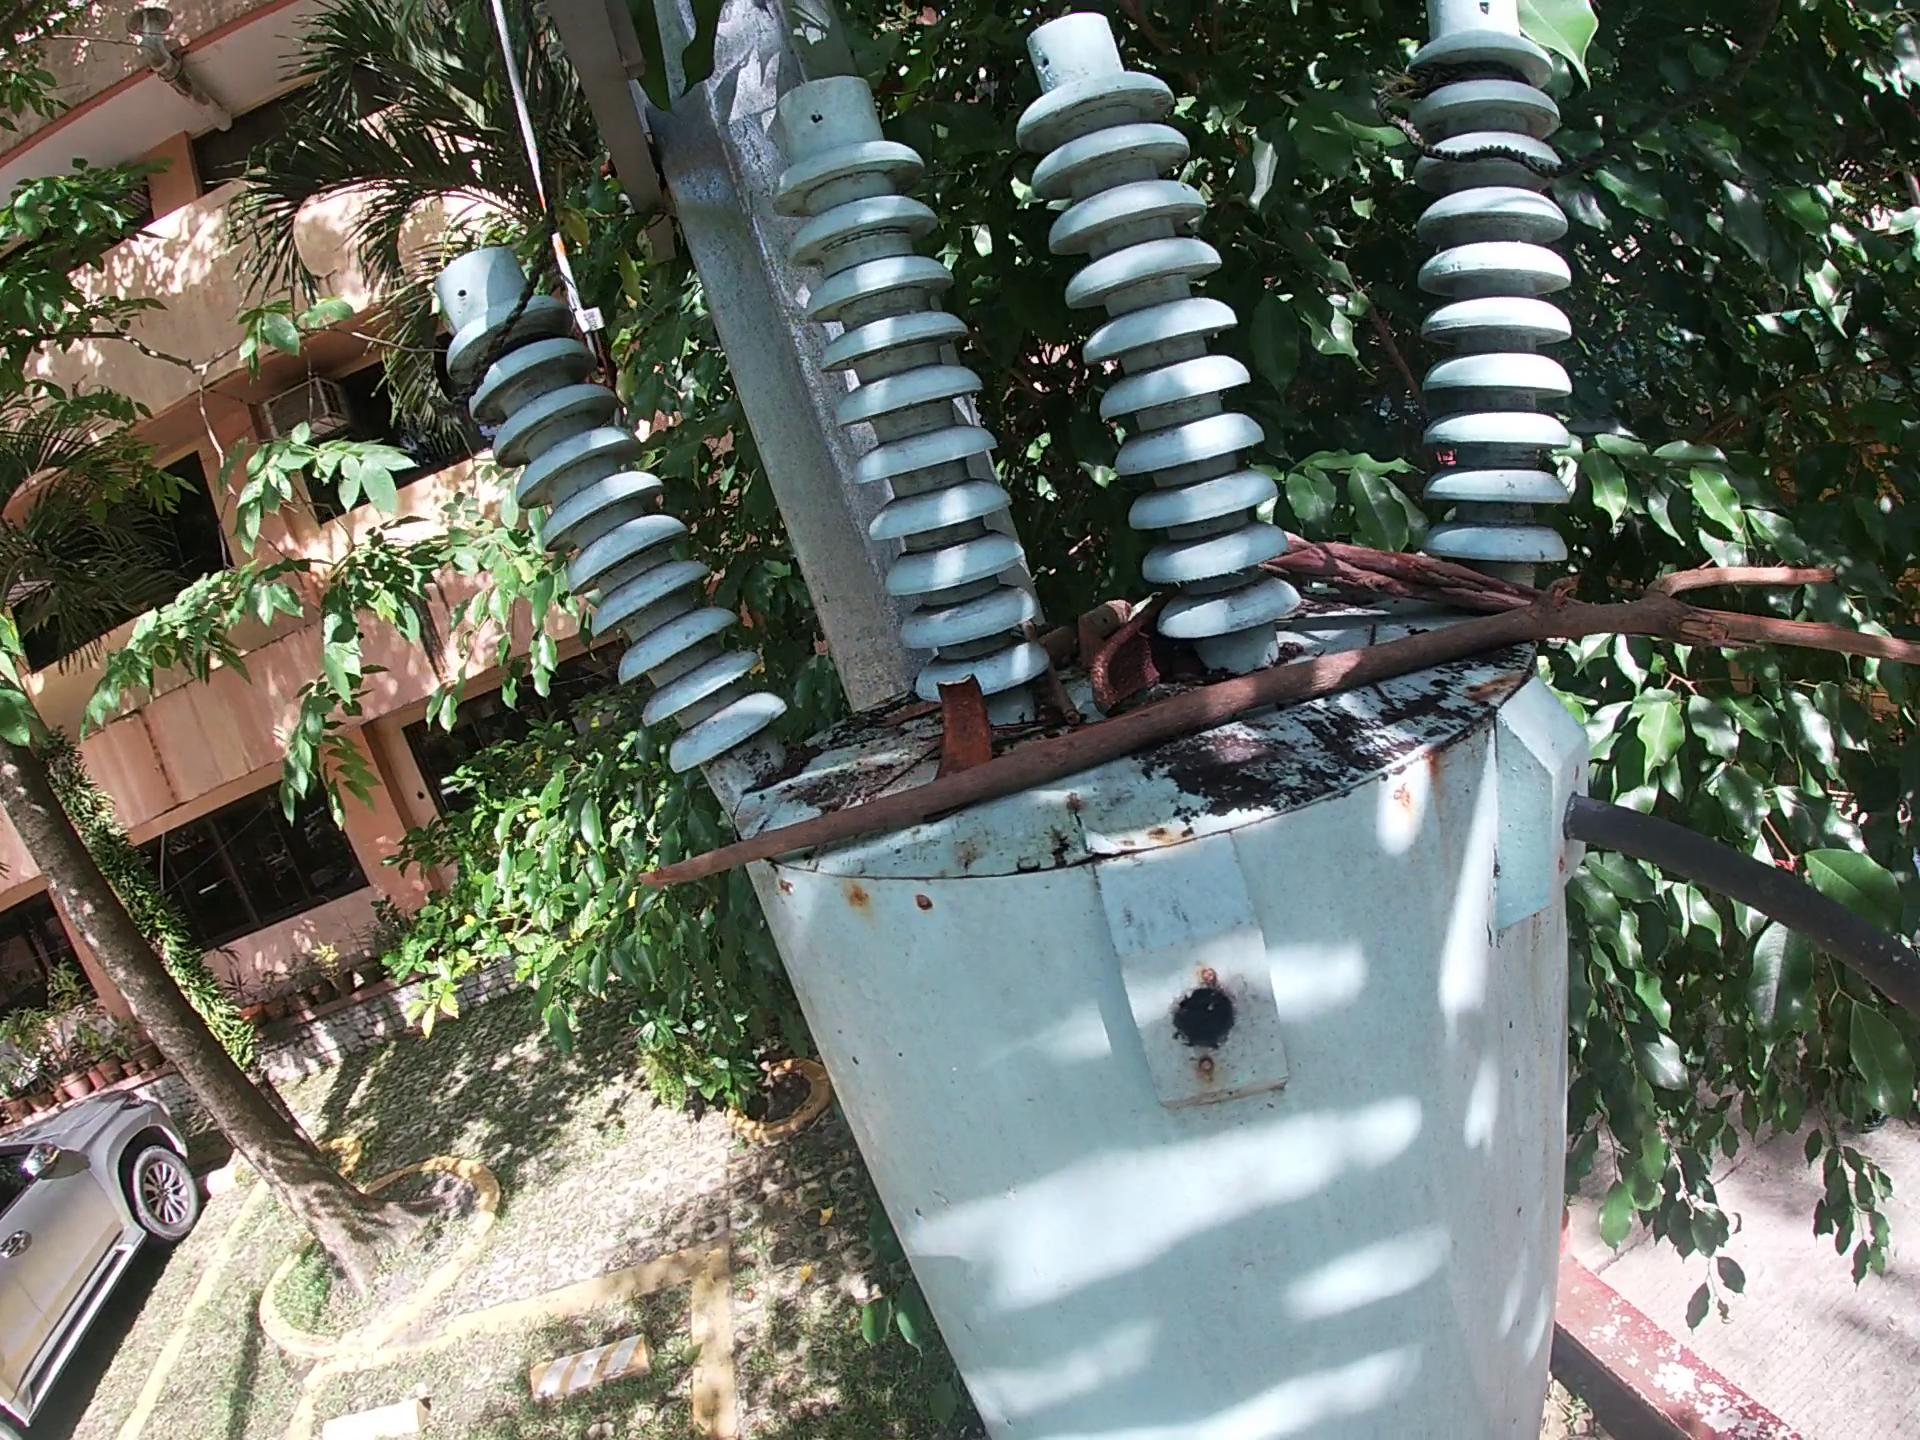leaf: (874, 702, 943, 729), (1075, 617, 1105, 656)
mahogany fruit: (1098, 604, 1179, 711), (930, 676, 992, 761)
tree branch: (599, 542, 1920, 921), (1287, 534, 1525, 597), (875, 737, 940, 799), (1045, 667, 1101, 732), (1058, 597, 1135, 635), (1383, 684, 1417, 722), (1361, 613, 1383, 646)
